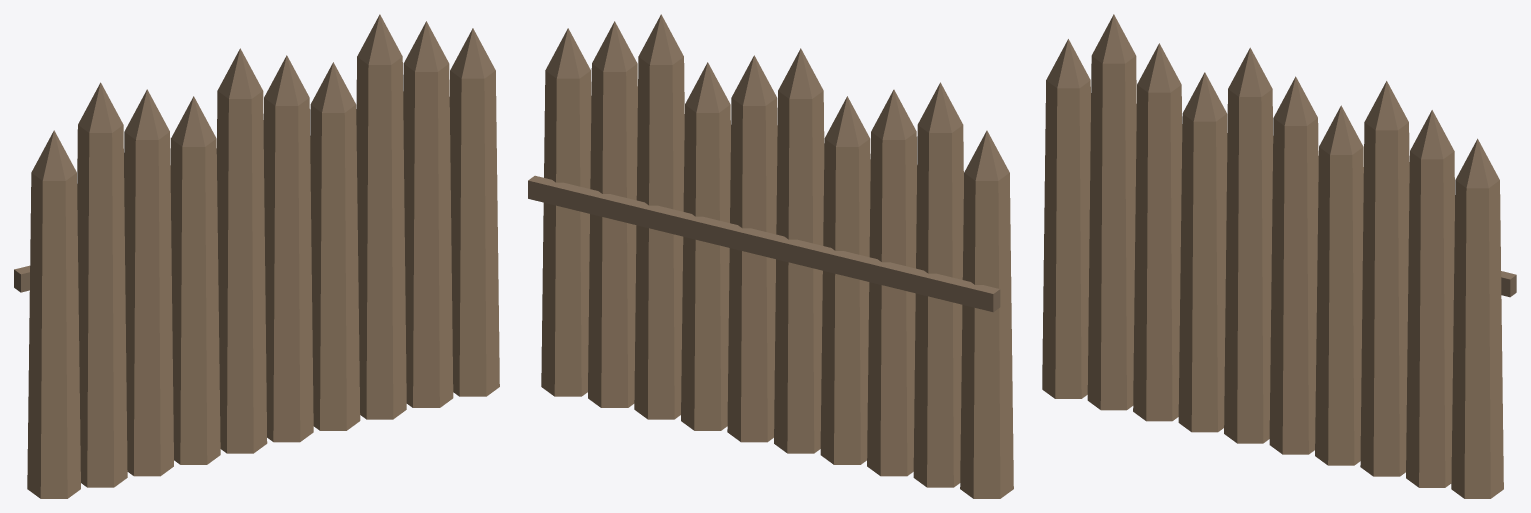
3 views of the same model, side by side, from view 1: azimuth 30°, elevation 25°; view 2: azimuth 150°, elevation 25°; view 3: azimuth 330°, elevation 25° (orthographic). The views are drawn at different scales.
Visible parts, largest first — view 1: structure.palisade; view 2: structure.palisade; view 3: structure.palisade.
Boxes of the visible parts, left/top/right/bottom form: structure.palisade: left=14, top=14, right=499, bottom=498; structure.palisade: left=528, top=14, right=1013, bottom=498; structure.palisade: left=1042, top=14, right=1516, bottom=498.
Bounding box in the file's own units: 4 × 3.25 × 0.45.
